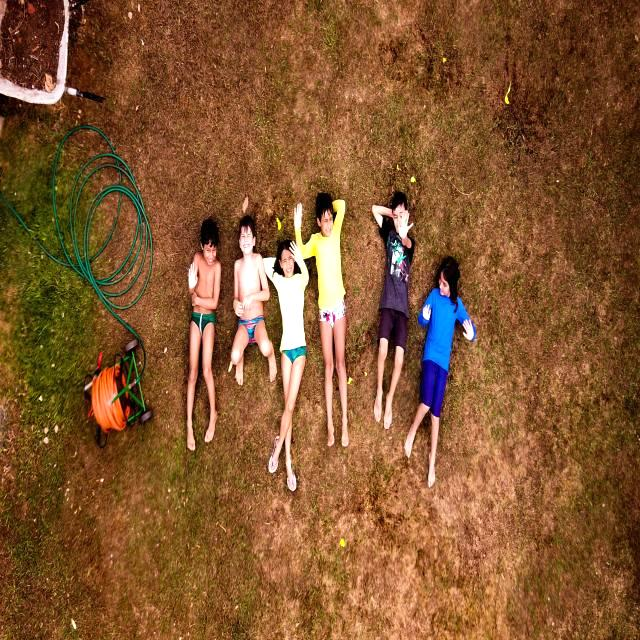no_head_wear: (435, 256, 460, 305), (273, 239, 304, 270), (237, 214, 267, 244), (196, 218, 221, 252), (315, 192, 338, 222), (390, 192, 408, 211)
person: (295, 192, 349, 446), (417, 256, 475, 487), (263, 240, 309, 491), (371, 192, 414, 429), (228, 215, 277, 385), (186, 219, 221, 451)
